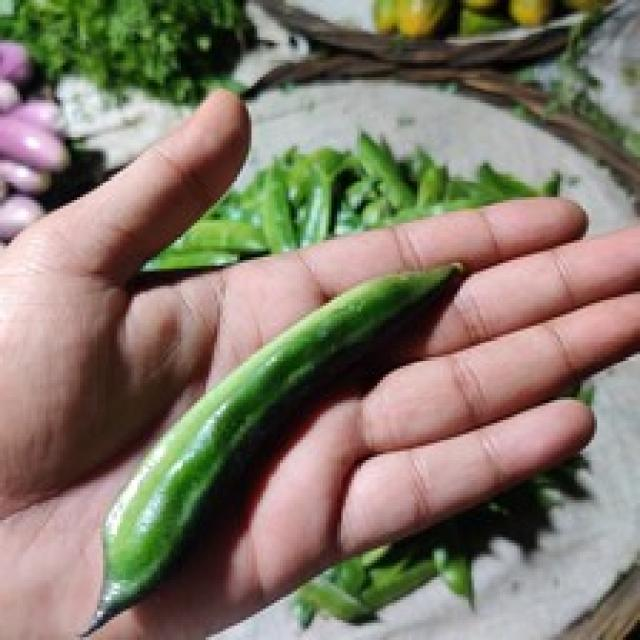Bean: (74, 260, 463, 637)
